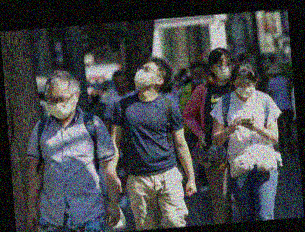mask_weared_incorrect: (192, 68, 205, 85)
with_mask: (46, 90, 77, 118), (134, 64, 159, 88), (234, 77, 257, 99), (213, 57, 233, 79)
without_mask: (114, 76, 128, 93)
